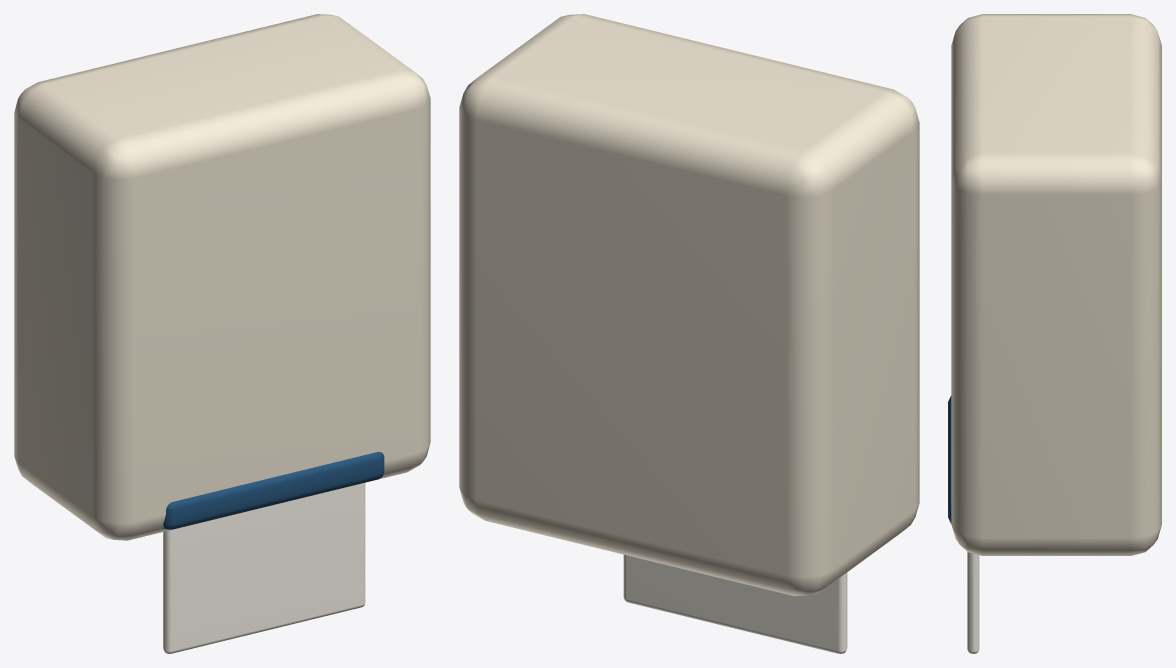
Rendered from Clinical_Towel_Dispenser.glb.
The picture shows the model from 3 angles, left to right: view 1: azimuth 30°, elevation 25°; view 2: azimuth 150°, elevation 25°; view 3: azimuth 270°, elevation 25°; orthographic projection. The views are drawn at different scales.
Visible parts, largest first — view 1: Clinical_Towel_Dispenser__Visual; view 2: Clinical_Towel_Dispenser__Visual; view 3: Clinical_Towel_Dispenser__Visual.
Boxes of the visible parts, x1,y1,x2,y2 form: Clinical_Towel_Dispenser__Visual: (14, 14, 430, 653); Clinical_Towel_Dispenser__Visual: (459, 14, 919, 653); Clinical_Towel_Dispenser__Visual: (948, 14, 1161, 653).
Bounding box in the file's own units: 0.282 × 0.4215 × 0.1565.
Materials: 1 (1 with a texture image).
